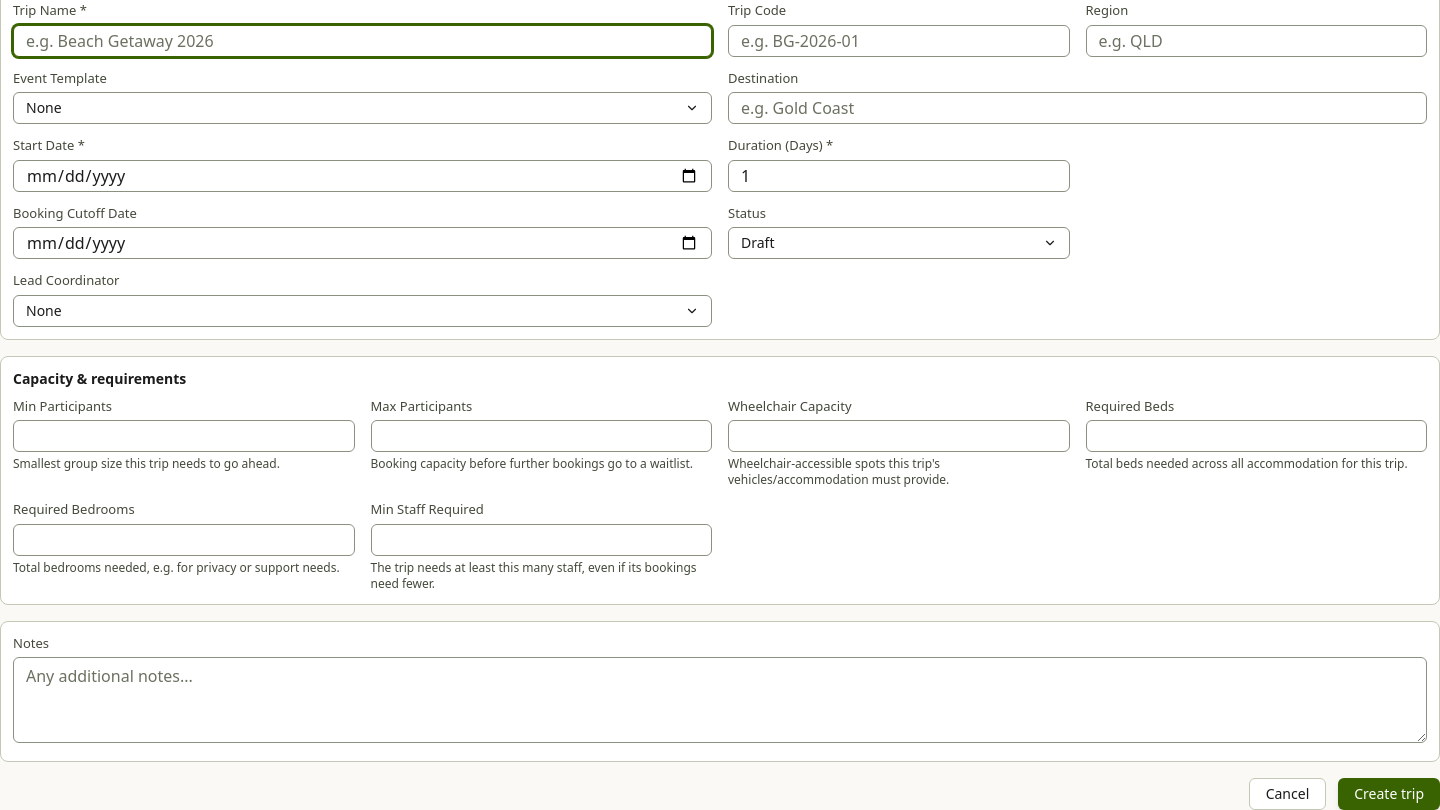
Test: zodResolver forms: empty submit › TripCreatePage shows the field errors and throws nothing
The width and height of the screenshot is (1440, 810).
(page scrolled)
Click the button "Create trip" at (1389, 794), box [1338,778,1439,809]
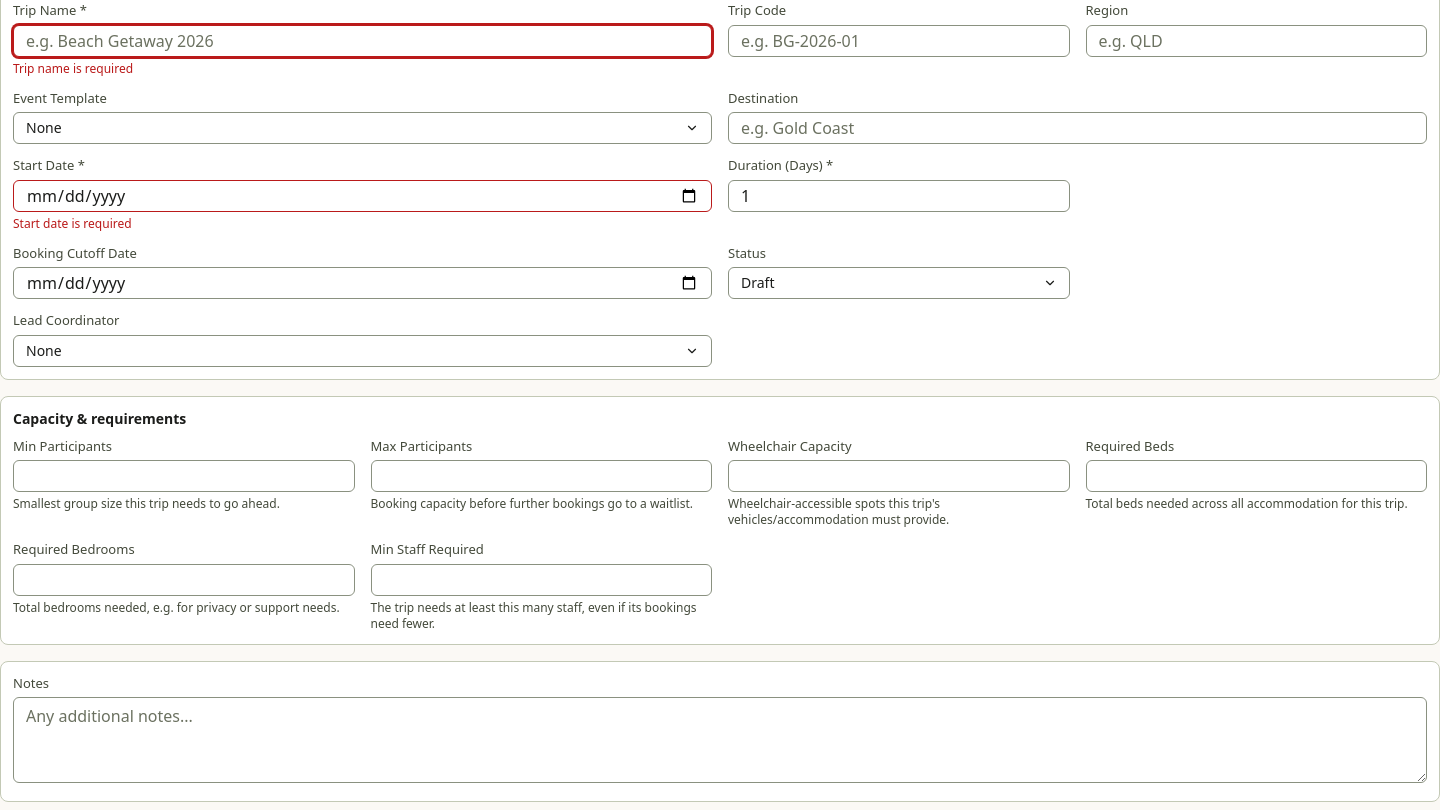
Check: the text "Trip name is required" is shown, box [13,60,133,76]
Check: the text "Start date is required" is shown, box [13,214,132,232]
